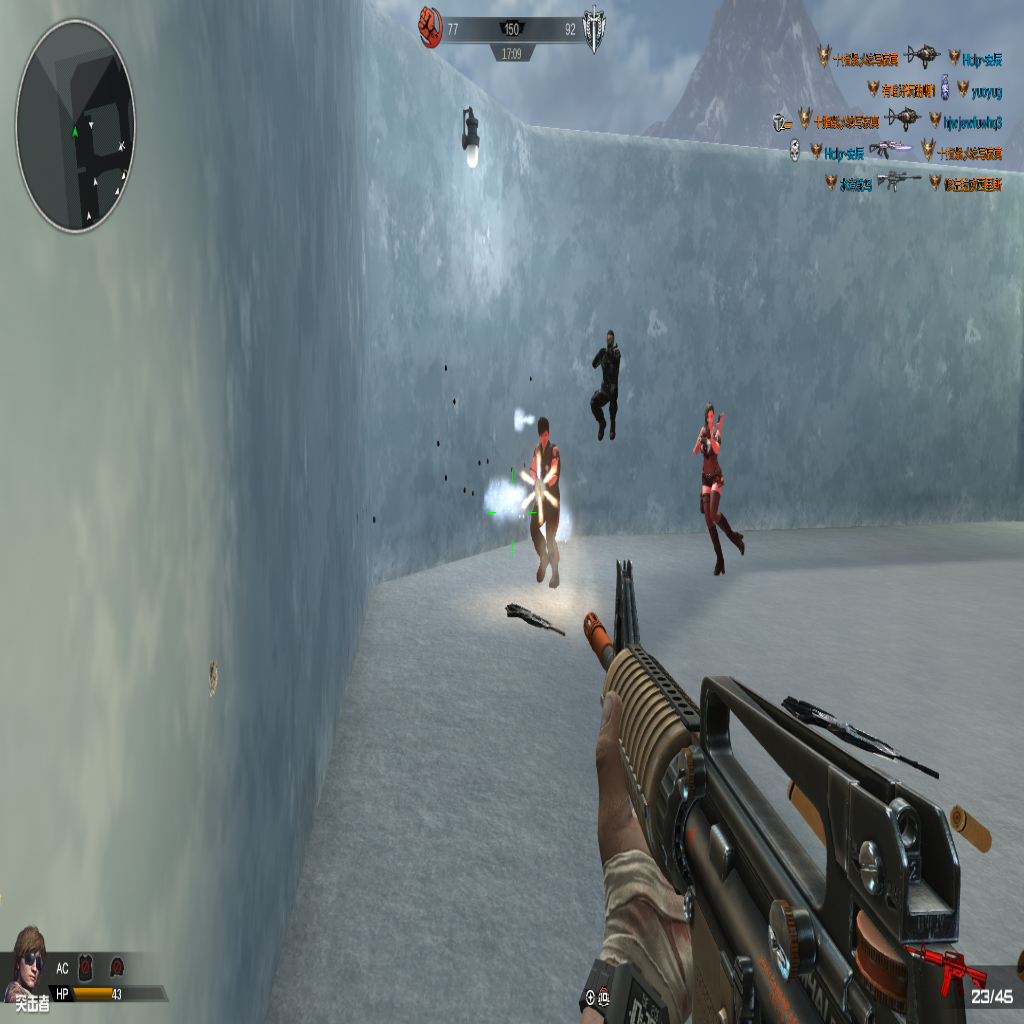ct: (694, 399, 742, 583), (522, 419, 561, 591), (589, 330, 619, 443)
